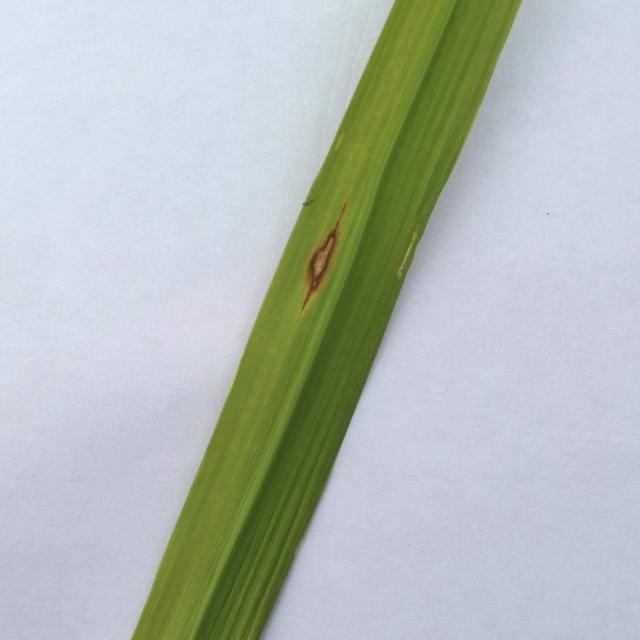Leaf_Blast: (296, 203, 349, 327)
